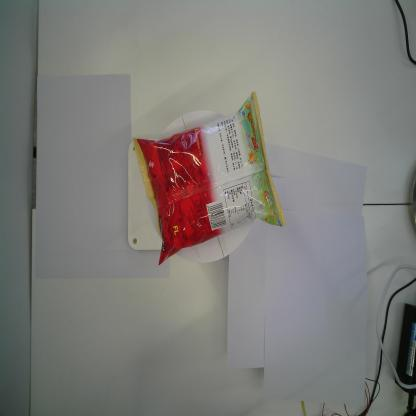Puffed Food: (132, 90, 285, 267)
